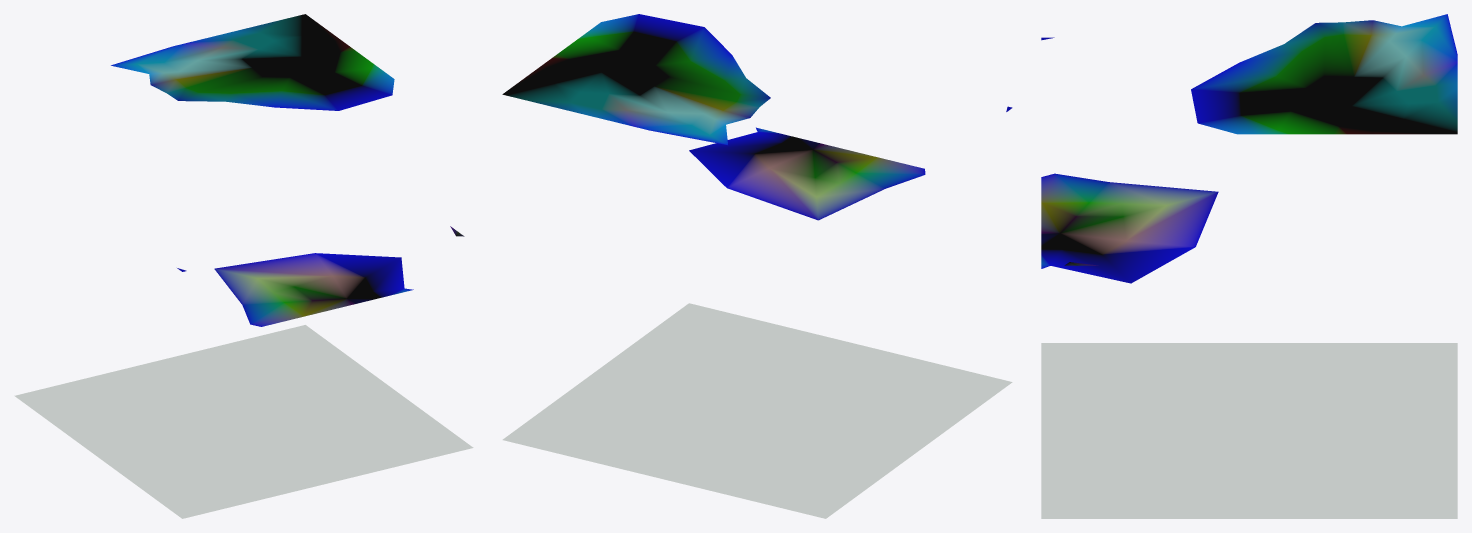
3 views of the same model, side by side, from view 1: azimuth 30°, elevation 25°; view 2: azimuth 150°, elevation 25°; view 3: azimuth 270°, elevation 25° (orthographic). The views are drawn at different scales.
Visible parts, largest first — view 1: G:\FFXIV-MapTools\exports\w1f5\bg\ffxiv\wil_w1\fld\w1f5\bgpl (×2); view 2: G:\FFXIV-MapTools\exports\w1f5\bg\ffxiv\wil_w1\fld\w1f5\bgpl (×2); view 3: G:\FFXIV-MapTools\exports\w1f5\bg\ffxiv\wil_w1\fld\w1f5\bgpl (×2).
Boxes of the visible parts, <box> form: G:\FFXIV-MapTools\exports\w1f5\bg\ffxiv\wil_w1\fld\w1f5\bgpl (×2): <box>14,14,473,518</box>; G:\FFXIV-MapTools\exports\w1f5\bg\ffxiv\wil_w1\fld\w1f5\bgpl (×2): <box>502,14,1012,518</box>; G:\FFXIV-MapTools\exports\w1f5\bg\ffxiv\wil_w1\fld\w1f5\bgpl (×2): <box>1041,14,1457,518</box>.
Size of the model in its own units: 128 by 130 by 128.
